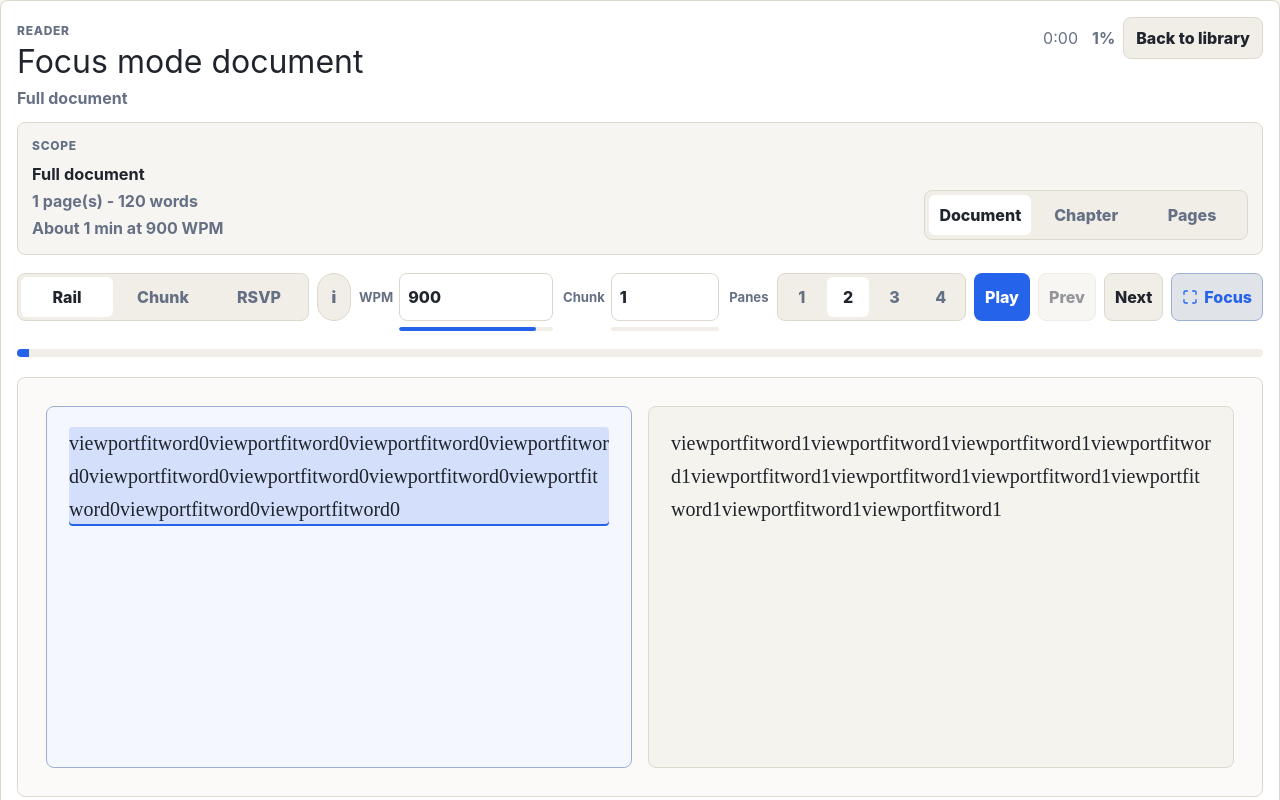
Test: ReaderRail virtual panes › keeps the active pane after pause saves reader defaults back through the parent
Click the button named "1 pane": (802, 297) [780,277,823,317]
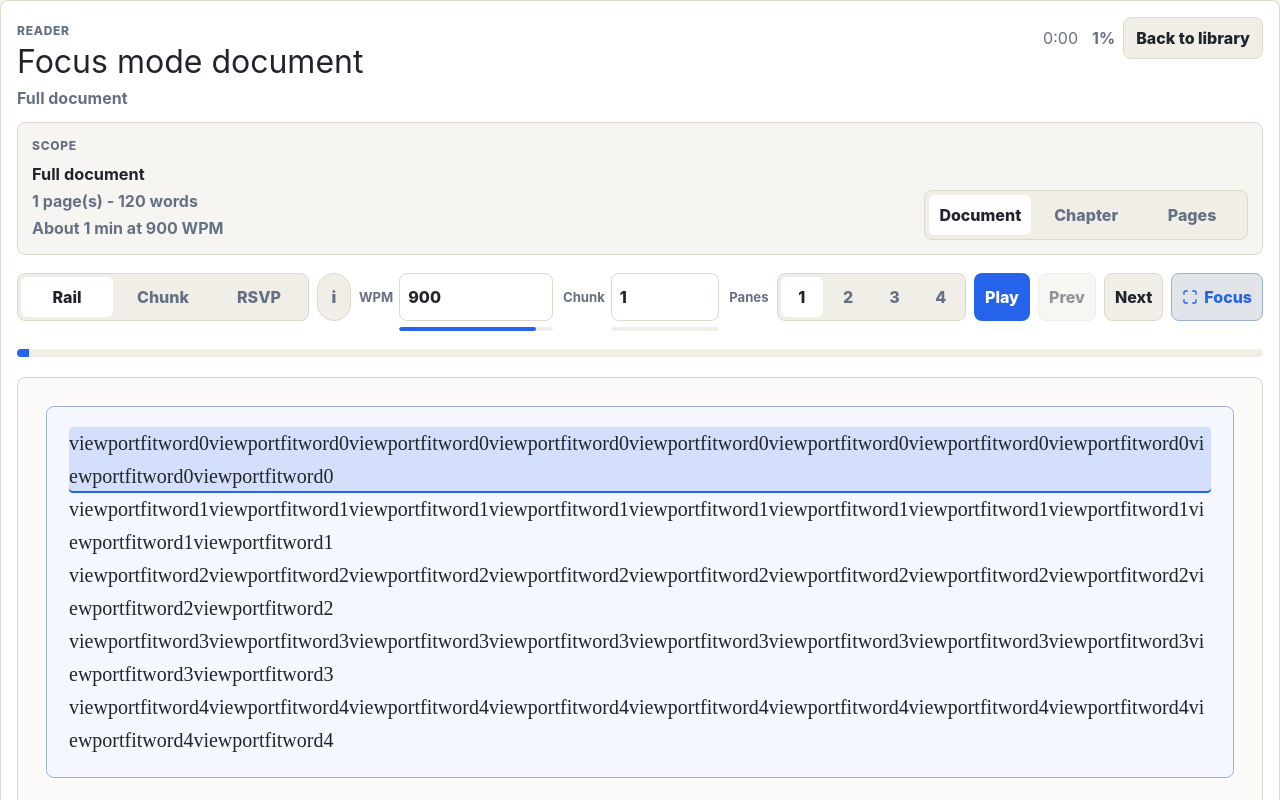
Click the button "Play": (1002, 297) [974,273,1030,321]
Wait 840 ms
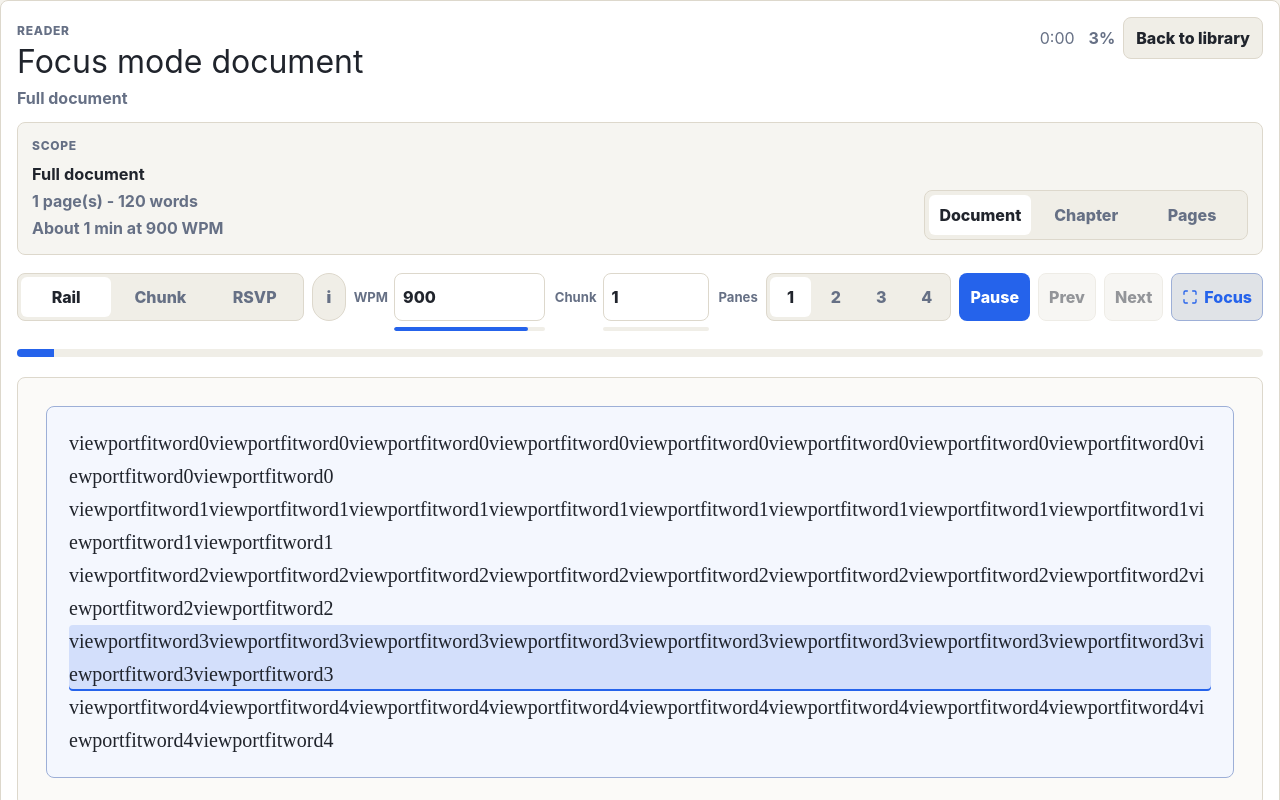
expect the button with class "active-chunk" shows "viewportfitword3": met, box [69,625,1211,691]
Click the button "Pause": (995, 297) [960,273,1030,321]
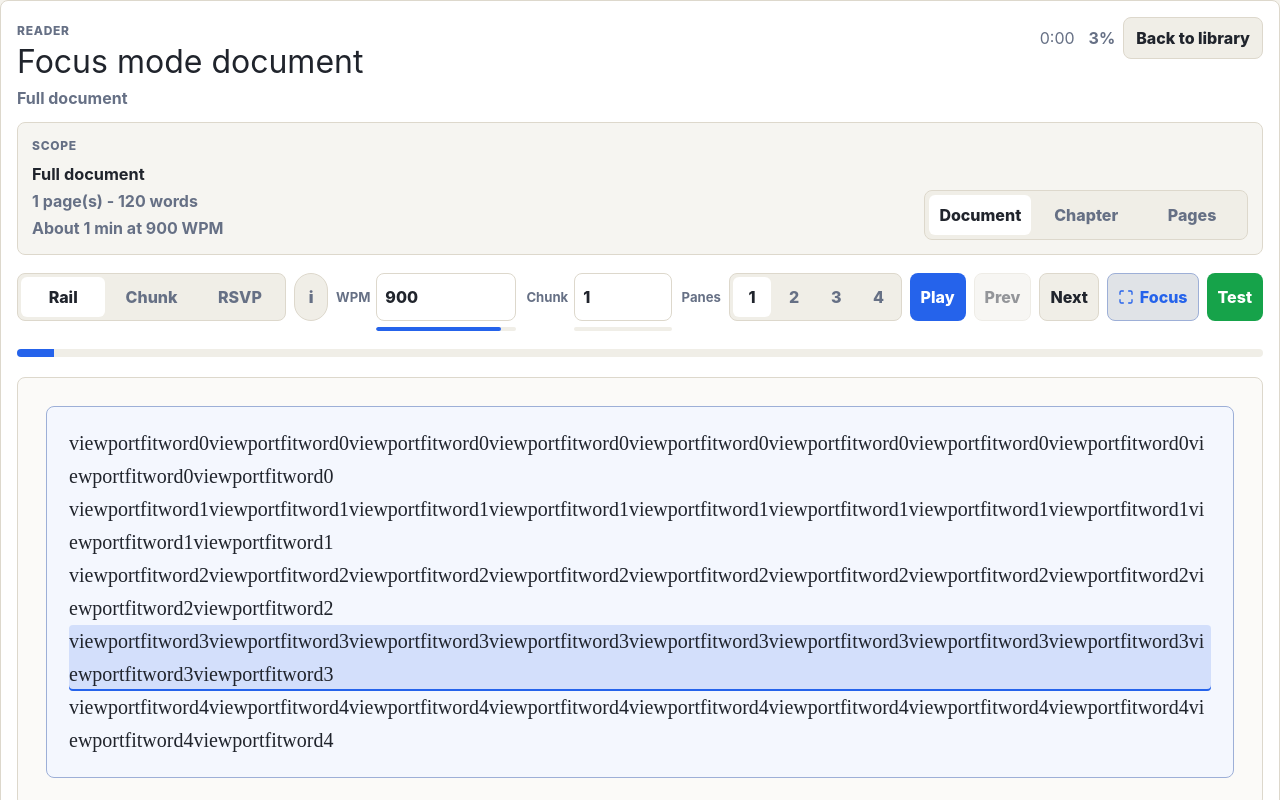
expect the element with class "active-chunk" does not show "viewportfitword0": met
expect the button with class "active-chunk" shows "viewportfitword3": met, box [69,625,1211,691]
expect the button "Play" is shown: met, box [910,273,966,321]
